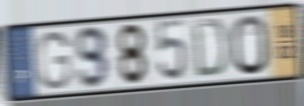5: (155, 17, 189, 85)
8: (115, 22, 150, 87)
9: (73, 24, 112, 90)
D: (191, 17, 230, 80)
G: (35, 29, 73, 91)
O: (230, 13, 271, 77)
